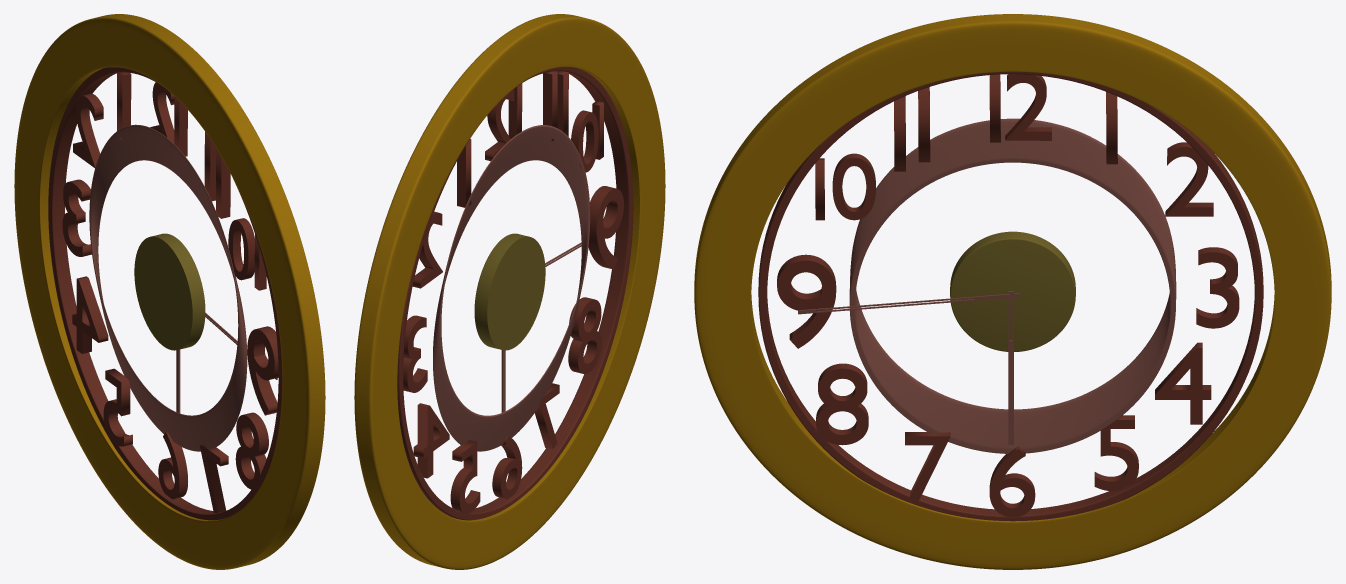
Rendered from Reloj.fbx.
3 renders of one model, left to right at view 1: azimuth 30°, elevation 25°; view 2: azimuth 150°, elevation 25°; view 3: azimuth 270°, elevation 25°, orthographic. The views are drawn at different scales.
Visible parts, largest first — view 1: Circle, Circle.002, Circle.001, Cylinder, Text.011, Text.009, Text.004, Text.003, Text.005, Text.013, Text.012, Text.007 (+7 smaller); view 2: Circle, Circle.002, Circle.001, Cylinder, Text.011, Text.009, Text.004, Text.005, Text.003, Text.007, Text.012, Text.013 (+7 smaller); view 3: Circle, Circle.002, Circle.001, Cylinder, Text.011, Text.009, Text.004, Text.003, Text.007, Text.013, Text.005, Text.012 (+8 smaller).
Part boxes in pixels (bbox=[...]): Circle: bbox=[14, 14, 325, 569]; Circle.002: bbox=[89, 124, 247, 451]; Circle.001: bbox=[48, 67, 282, 520]; Cylinder: bbox=[134, 233, 205, 350]; Text.011: bbox=[247, 326, 278, 415]; Text.009: bbox=[235, 412, 268, 489]; Text.004: bbox=[72, 276, 108, 353]; Text.003: bbox=[62, 179, 91, 256]; Text.005: bbox=[103, 368, 132, 446]; Text.013: bbox=[73, 93, 103, 167]; Text.012: bbox=[228, 218, 254, 280]; Text.007: bbox=[158, 431, 187, 499]; Circle: bbox=[354, 14, 665, 569]; Circle.002: bbox=[433, 125, 590, 451]; Circle.001: bbox=[397, 67, 633, 520]; Cylinder: bbox=[474, 233, 545, 350]; Text.011: bbox=[588, 186, 623, 269]; Text.009: bbox=[568, 297, 602, 374]; Text.004: bbox=[413, 403, 449, 478]; Text.005: bbox=[450, 440, 480, 513]; Text.003: bbox=[403, 315, 427, 392]; Text.007: bbox=[492, 436, 522, 499]; Text.012: bbox=[571, 110, 598, 172]; Text.013: bbox=[412, 211, 442, 288]; Circle: bbox=[694, 14, 1331, 569]; Circle.002: bbox=[849, 118, 1176, 453]; Circle.001: bbox=[758, 72, 1263, 521]; Cylinder: bbox=[950, 231, 1075, 351]; Text.011: bbox=[777, 254, 836, 348]; Text.009: bbox=[816, 363, 868, 445]; Text.004: bbox=[1155, 342, 1211, 424]; Text.003: bbox=[1196, 247, 1239, 328]; Text.007: bbox=[989, 445, 1035, 516]; Text.013: bbox=[1165, 142, 1213, 216]; Text.005: bbox=[1094, 415, 1138, 491]; Text.012: bbox=[832, 153, 875, 220].
Bounding box in the file's own units: 1.73 × 45.08 × 47.47.
